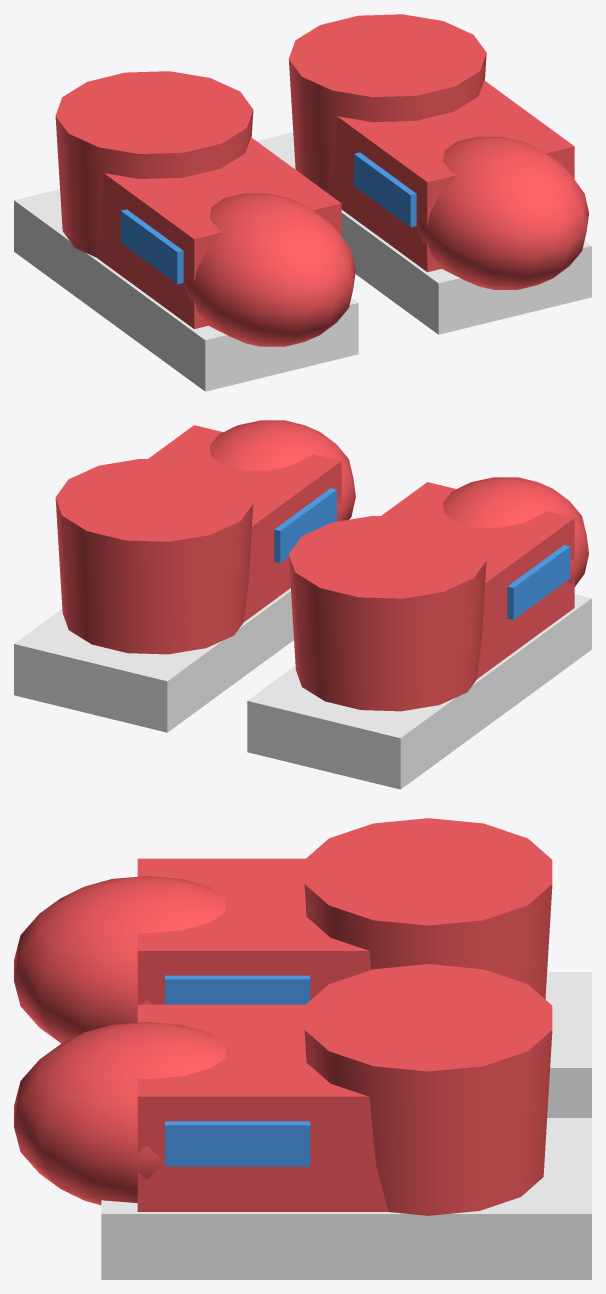
The model's file is shoes_fun_1.glb.
3 views of the same model, one above another, from view 1: azimuth 30°, elevation 25°; view 2: azimuth 150°, elevation 25°; view 3: azimuth 270°, elevation 25° (orthographic). The views are drawn at different scales.
Bounding box in the file's own units: 0.33 × 0.13 × 0.3181.
